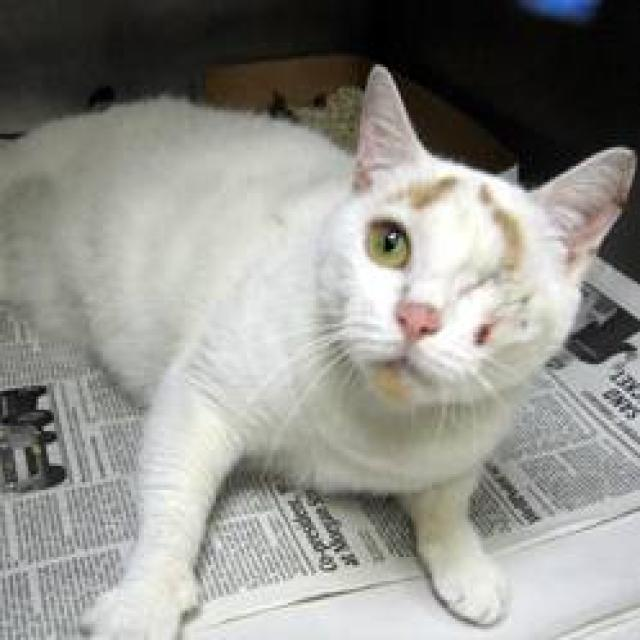Cat: (334, 63, 624, 436)
